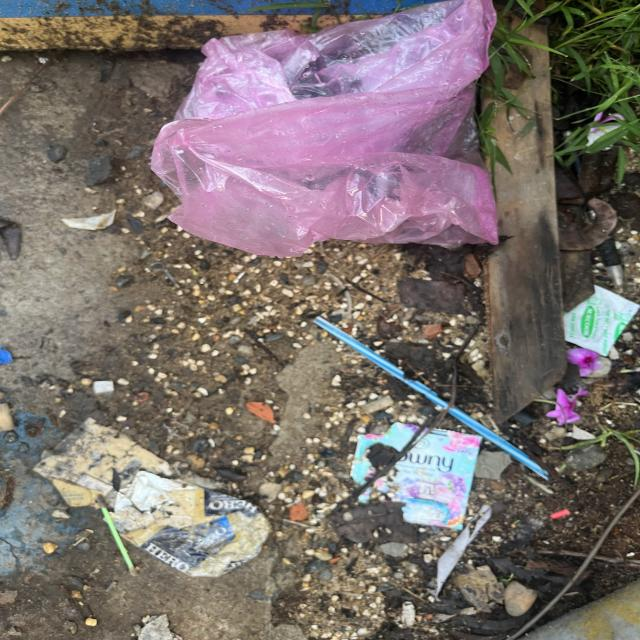bag: (148, 0, 501, 258)
drinking straw: (313, 314, 552, 484)
packet: (348, 420, 486, 532), (563, 284, 640, 358)
